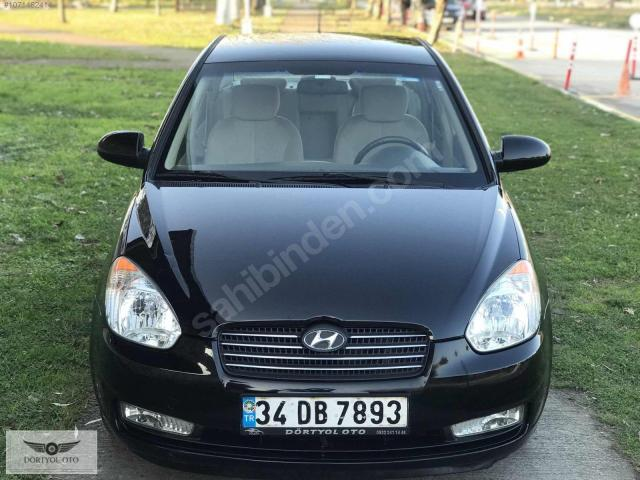plaka: (243, 397, 408, 434)
